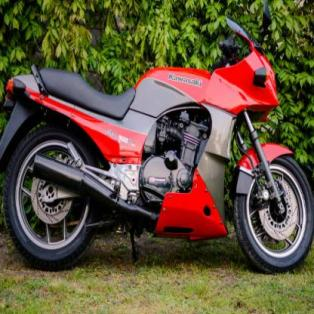Motocicleta: (1, 0, 313, 276)
